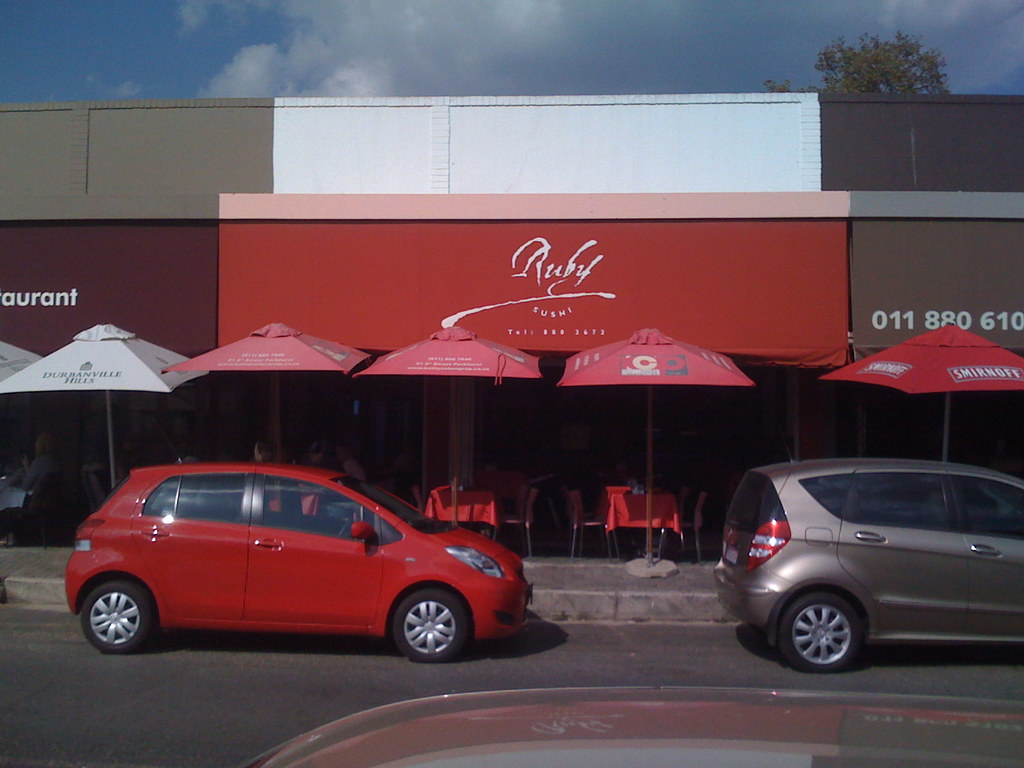Car: (64, 464, 542, 668), (721, 453, 1023, 669)
